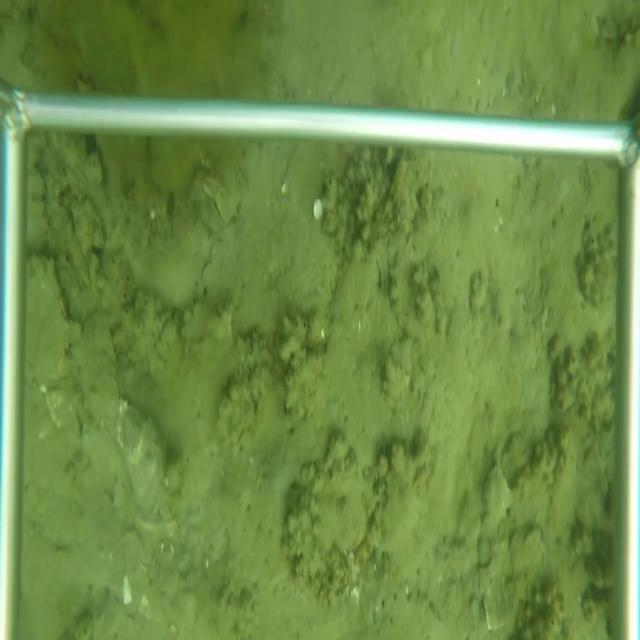Oyster-Closed: (119, 397, 168, 525), (478, 465, 513, 562), (193, 165, 241, 227)
Oyster-Indeterminate: (287, 460, 391, 591), (25, 250, 82, 392), (72, 301, 124, 445)
